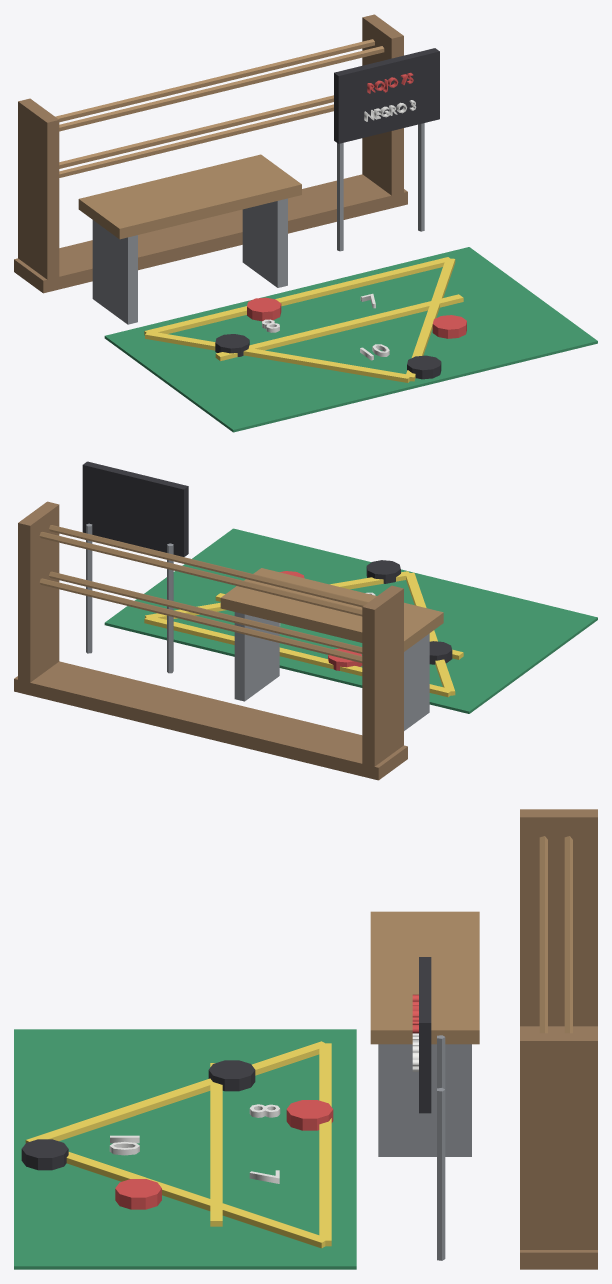
File: CR_Tejo.fbx
The picture shows the model from 3 angles, top to bottom: view 1: azimuth 30°, elevation 25°; view 2: azimuth 150°, elevation 25°; view 3: azimuth 270°, elevation 25°; orthographic projection. The views are drawn at different scales.
Parts seen in each view (by area): view 1: CR_Tejo; view 2: CR_Tejo; view 3: CR_Tejo.
Part boxes in pixels (left/top/right/bottom): CR_Tejo: left=14, top=14, right=597, bottom=432; CR_Tejo: left=14, top=461, right=597, bottom=780; CR_Tejo: left=14, top=809, right=597, bottom=1269.
Bounding box in the file's own units: 1.8 × 0.86 × 1.88.
